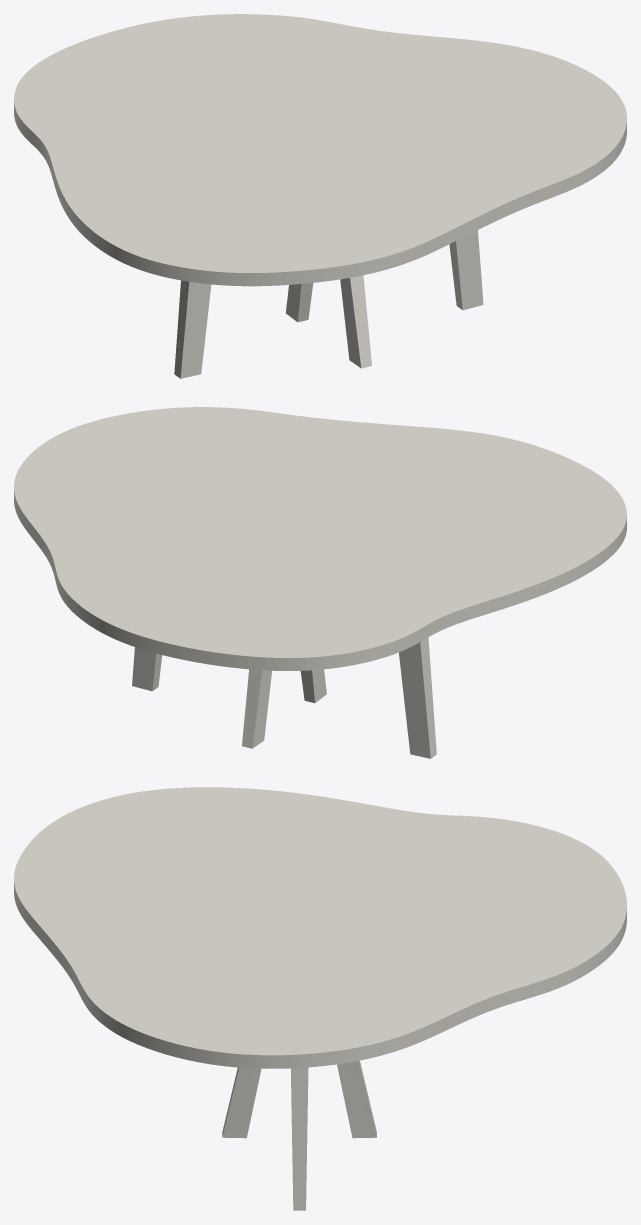
Rendered from pale_topone_standard_searwalnut.glb.
3 renders of one model, top to bottom at view 1: azimuth 30°, elevation 25°; view 2: azimuth 150°, elevation 25°; view 3: azimuth 270°, elevation 25°, orthographic. The views are drawn at different scales.
Visible parts, largest first — view 1: standard_topone, searwalnut; view 2: standard_topone, searwalnut; view 3: standard_topone, searwalnut.
Part boxes in pixels (bbox=[...]): standard_topone: bbox=[14, 14, 626, 286]; searwalnut: bbox=[174, 230, 483, 378]; standard_topone: bbox=[14, 407, 626, 670]; searwalnut: bbox=[132, 637, 436, 758]; standard_topone: bbox=[14, 787, 626, 1068]; searwalnut: bbox=[222, 1060, 376, 1210].
Bounding box in the file's own units: 6.83 × 2.5 × 6.6.
1 material, 1 textured.
